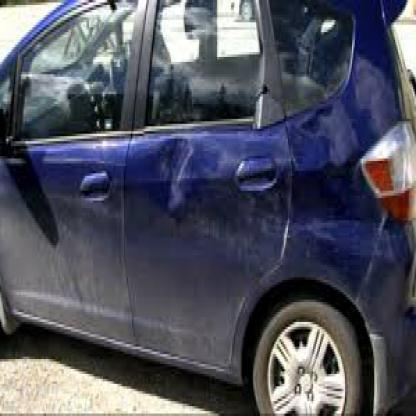dent: (147, 130, 198, 219), (300, 98, 348, 155)
